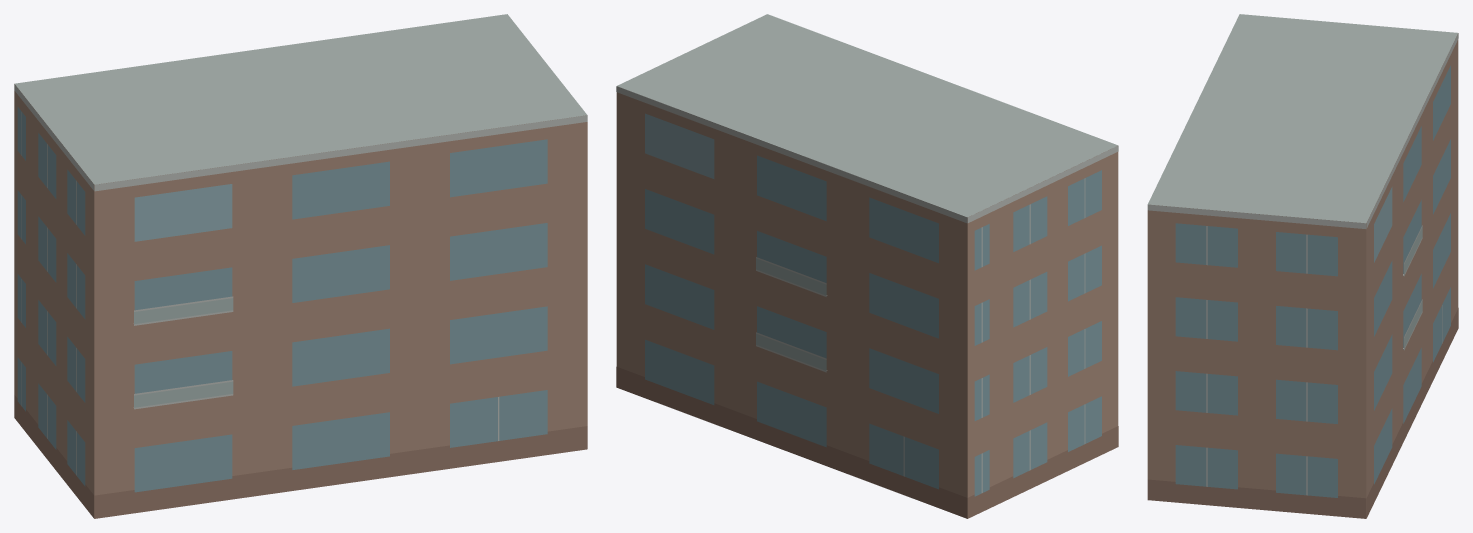
The model's file is residential-f4734691-eb58-4f3c-9020-46cb578d3598.glb.
3 renders of one model, left to right at view 1: azimuth 30°, elevation 25°; view 2: azimuth 150°, elevation 25°; view 3: azimuth 270°, elevation 25°, orthographic. The views are drawn at different scales.
Visible parts, largest first — view 1: residential-f4734691-eb58-4f3c-9020-46cb578d3598.tmp; view 2: residential-f4734691-eb58-4f3c-9020-46cb578d3598.tmp; view 3: residential-f4734691-eb58-4f3c-9020-46cb578d3598.tmp.
Boxes of the visible parts, <box> form: residential-f4734691-eb58-4f3c-9020-46cb578d3598.tmp: <box>14,14,587,518</box>; residential-f4734691-eb58-4f3c-9020-46cb578d3598.tmp: <box>616,14,1118,518</box>; residential-f4734691-eb58-4f3c-9020-46cb578d3598.tmp: <box>1147,14,1458,518</box>.
Size of the model in its own units: 18.53 by 12.2 by 11.63.
